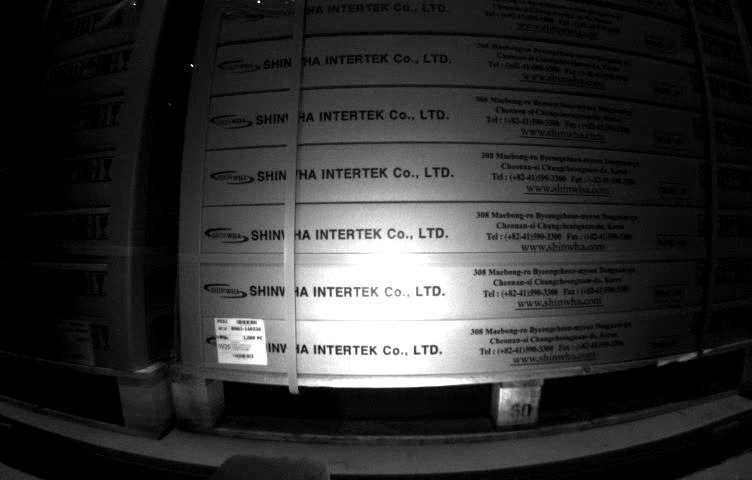True Barcode: (213, 316, 267, 364)
